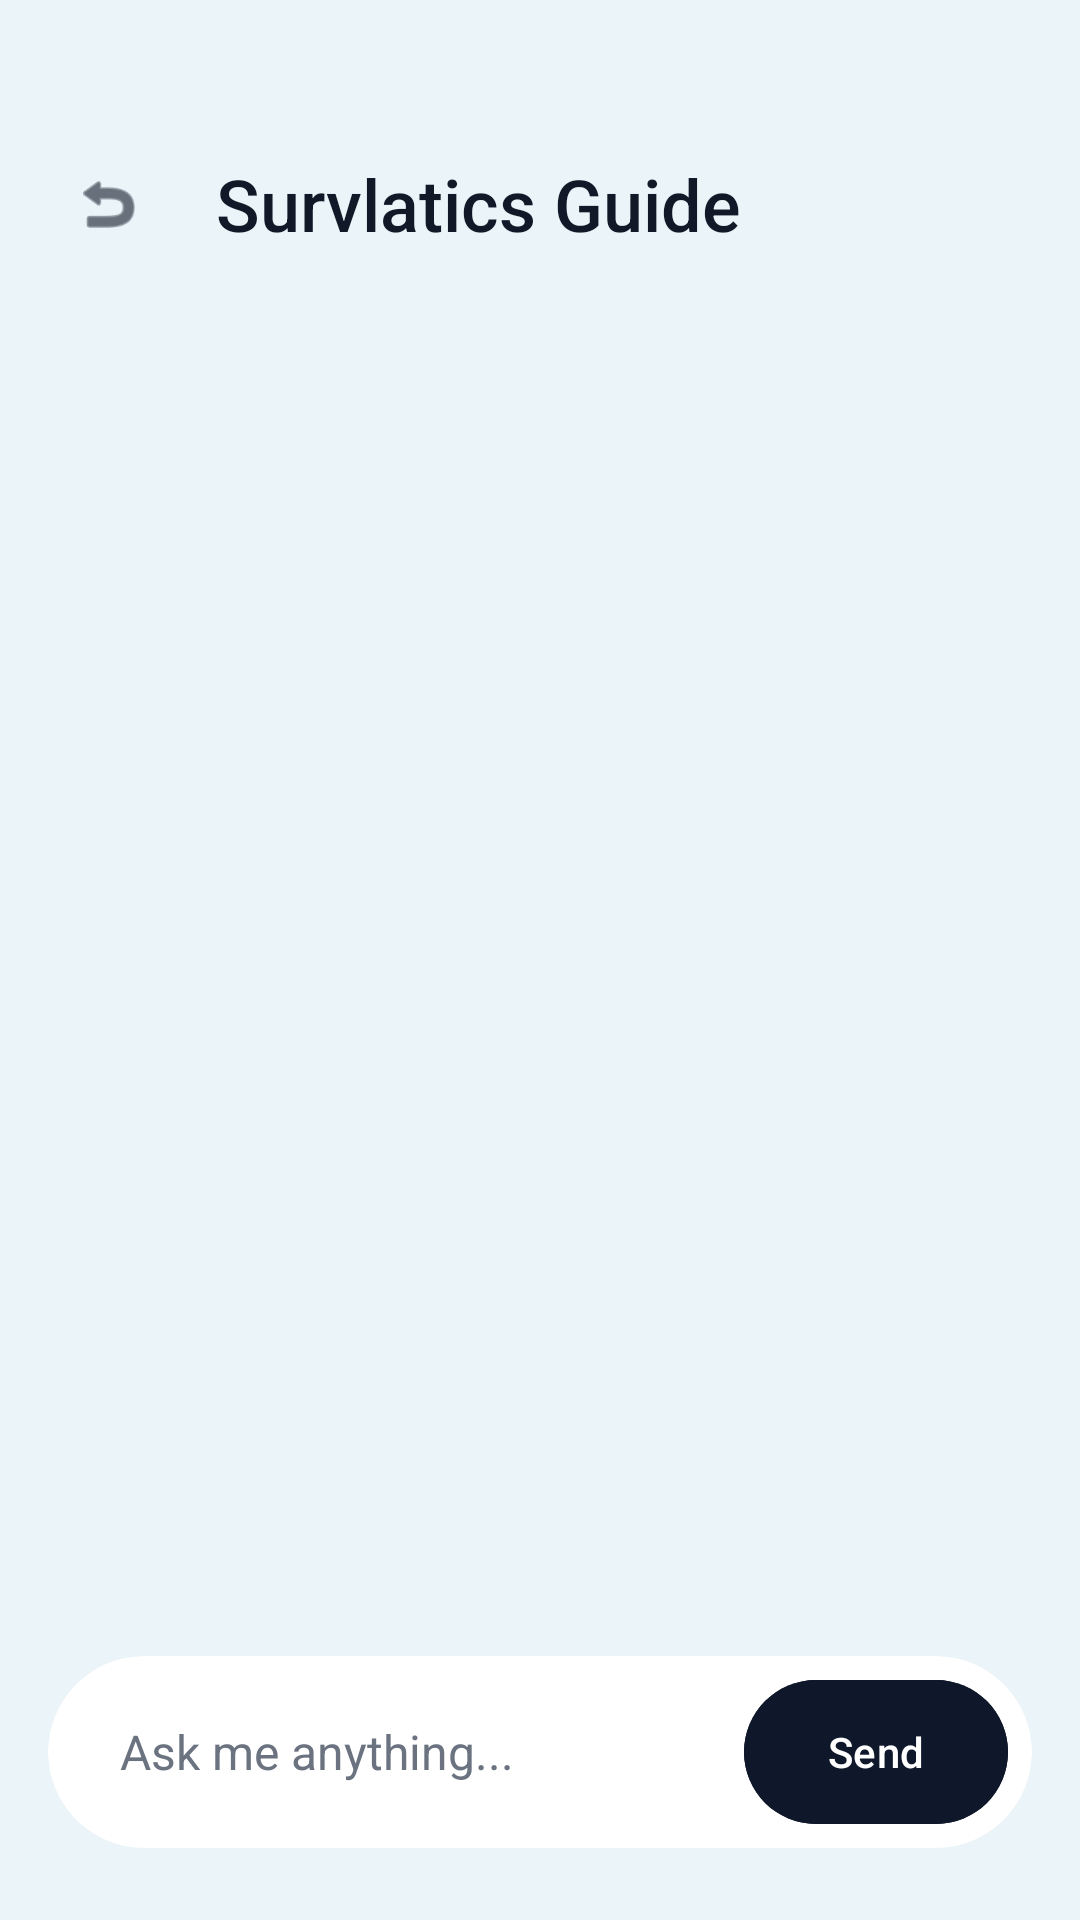

Where icons sit on this 1080*1920 app screen, as (x1, y1, x2, y2):
revert: (83, 181, 135, 228)
